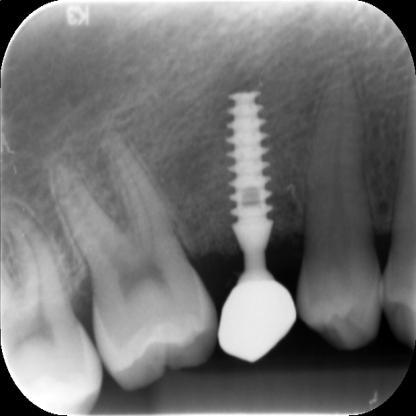Bicon: (220, 89, 279, 234)
